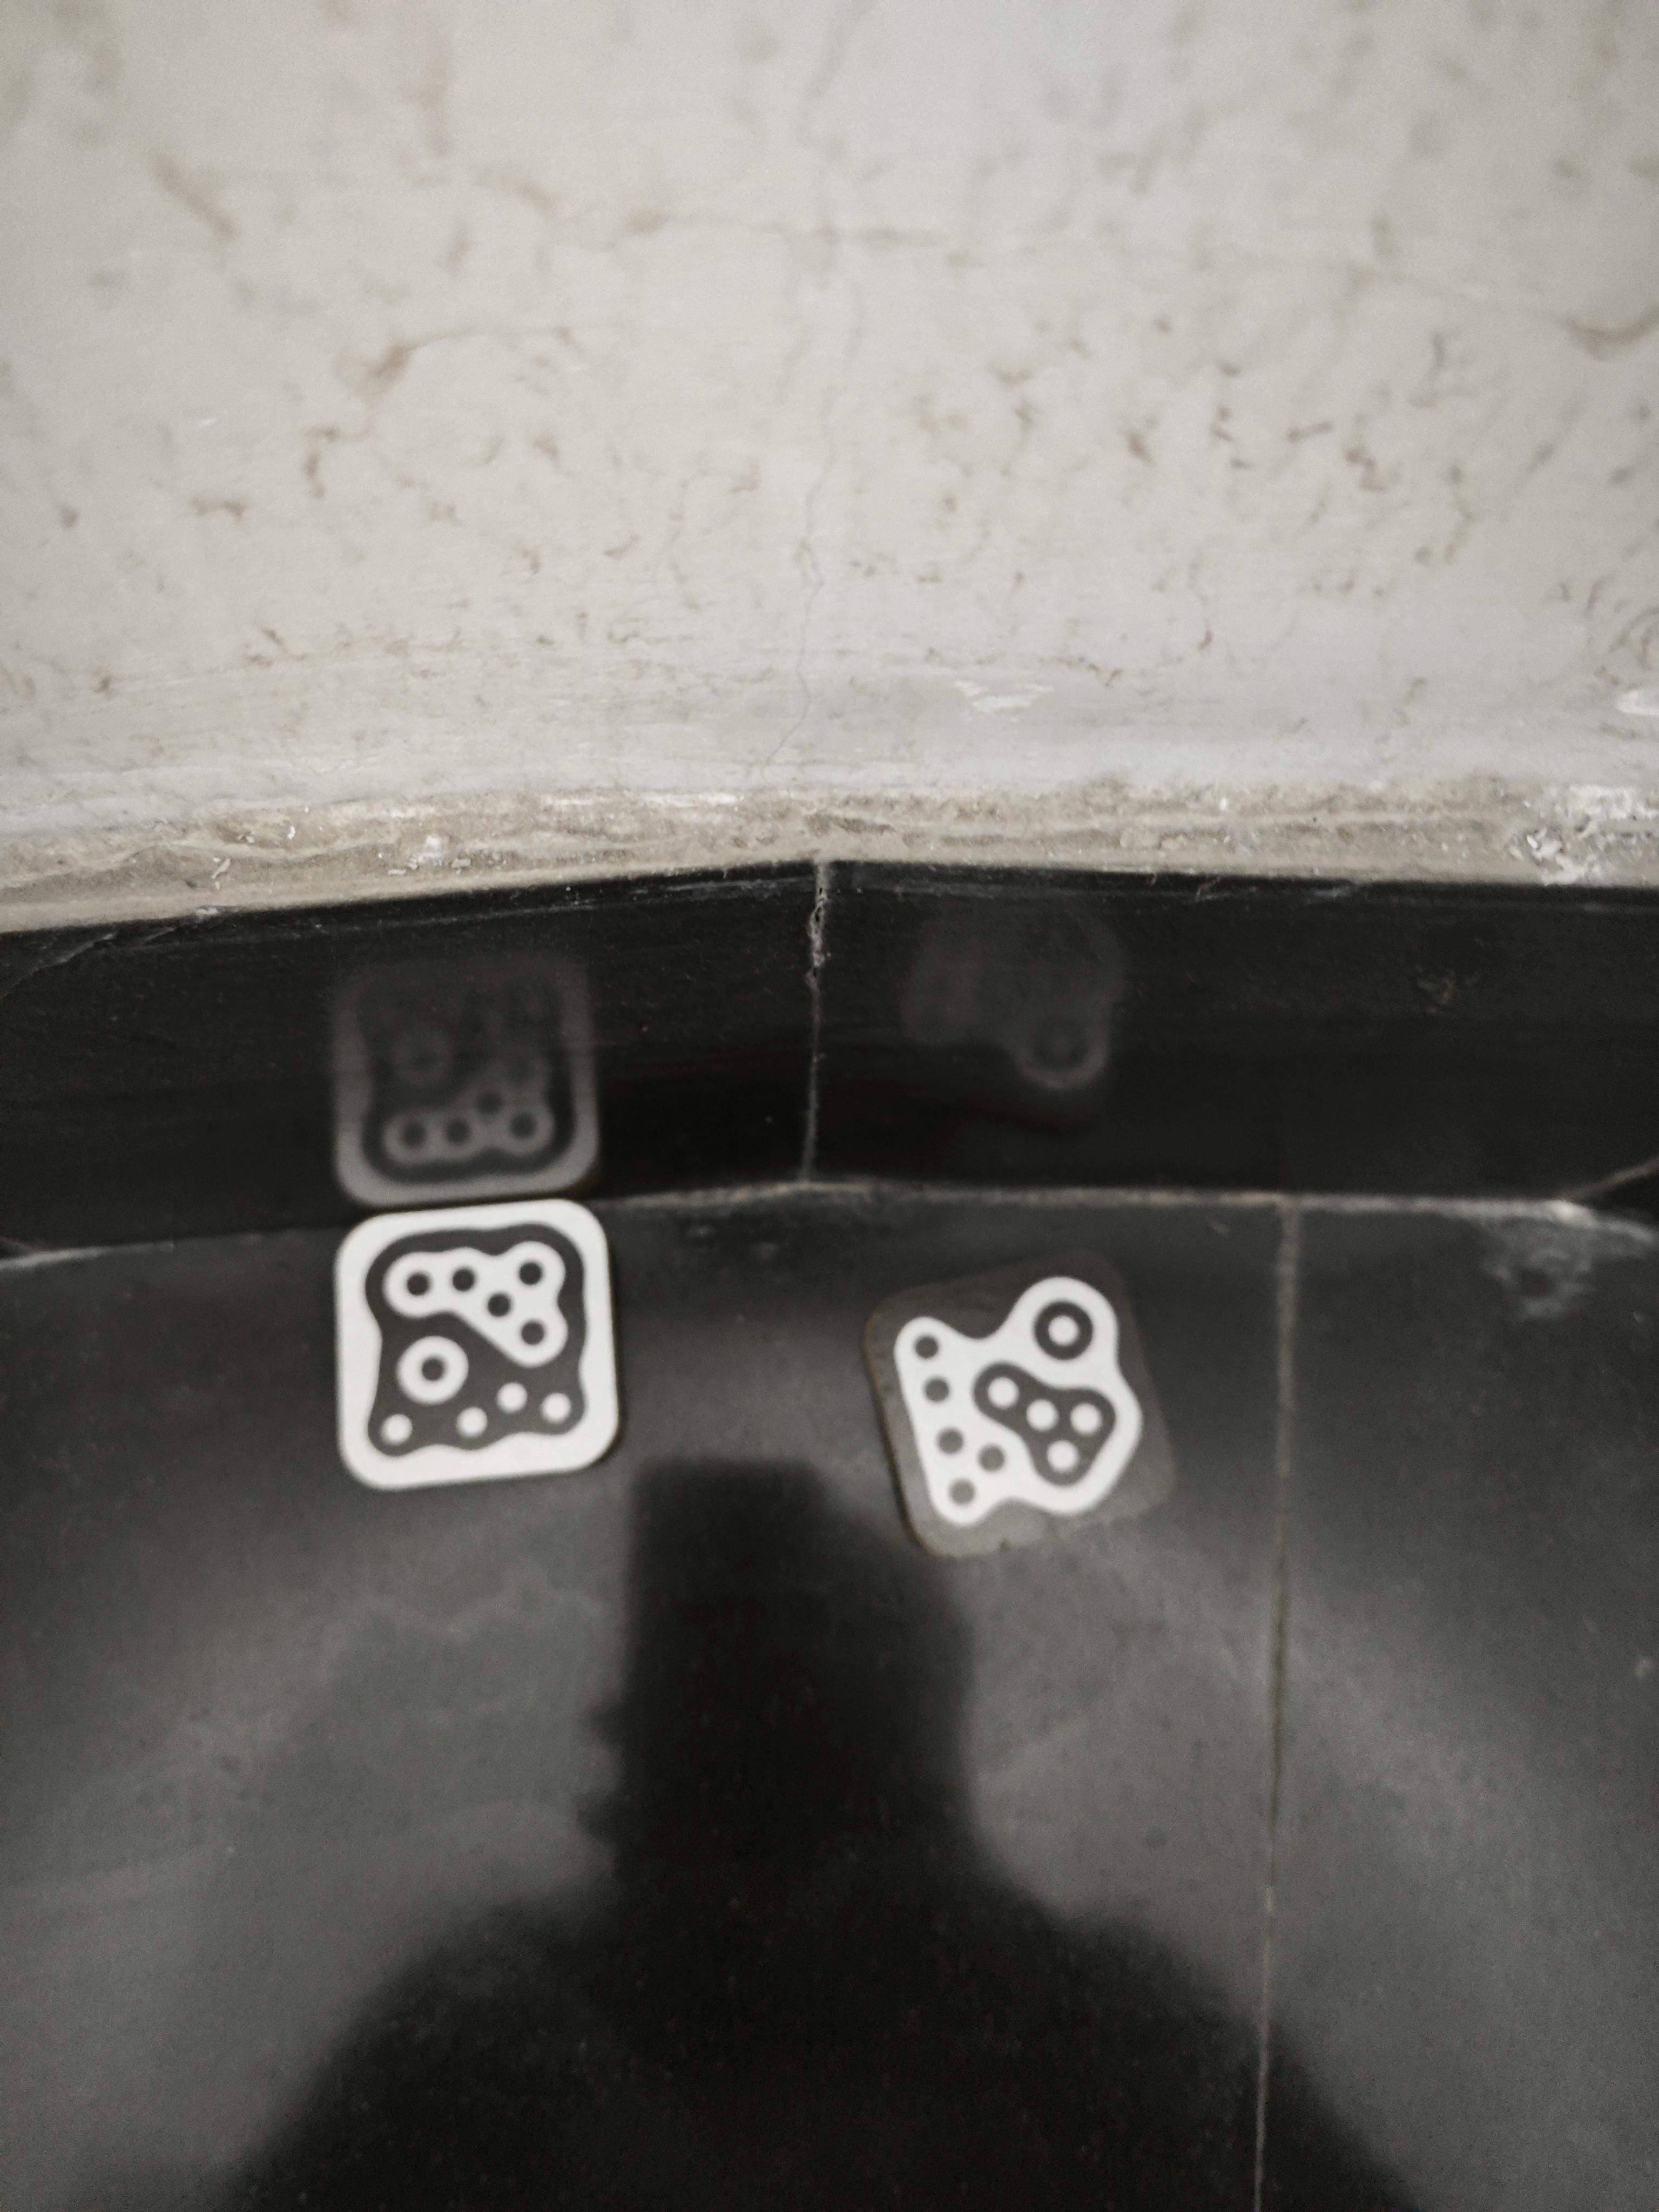mark1: (357, 1217, 598, 1458)
mark2: (894, 1273, 1150, 1529)
